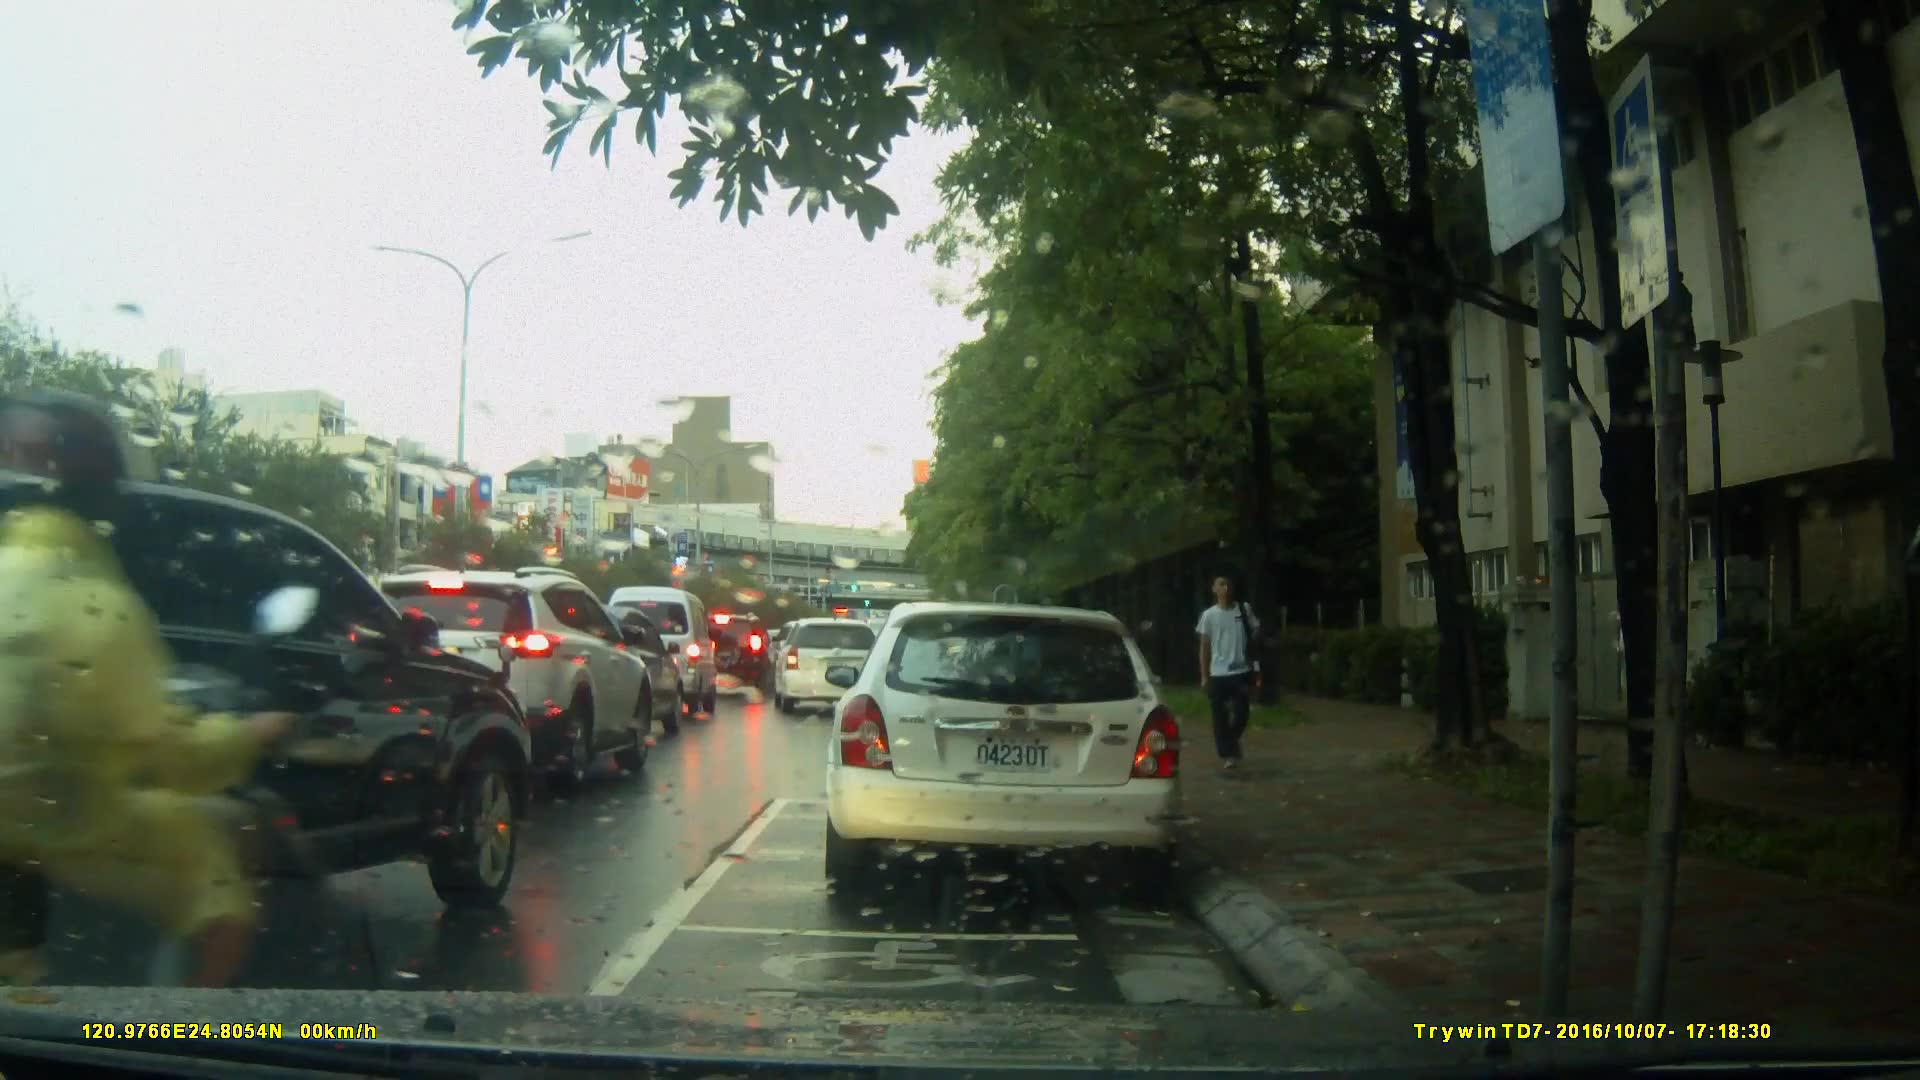pedestrian: (1193, 566, 1272, 787)
rider: (1, 401, 338, 1076)
vehicle: (1, 470, 533, 988), (820, 602, 1188, 898), (342, 563, 659, 791), (532, 603, 692, 737), (598, 585, 722, 722), (772, 617, 889, 715), (678, 611, 775, 703)
